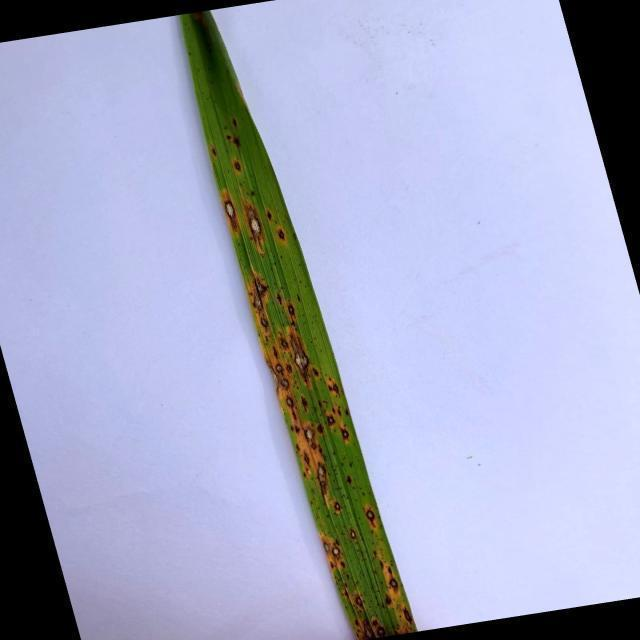Leaf_Blast: (288, 335, 314, 387), (246, 209, 264, 240), (317, 460, 328, 498), (223, 196, 238, 222), (363, 506, 379, 528), (254, 276, 270, 297), (282, 393, 299, 412), (250, 294, 267, 310), (285, 302, 298, 321), (401, 606, 414, 625), (277, 377, 293, 392), (302, 426, 317, 442), (339, 425, 351, 444), (323, 413, 338, 428), (328, 380, 341, 397), (232, 158, 244, 176), (259, 313, 271, 330), (275, 226, 286, 243), (278, 336, 291, 350), (301, 450, 313, 465), (330, 501, 343, 514), (321, 539, 332, 554), (355, 594, 366, 609), (363, 625, 374, 640), (387, 577, 400, 589), (274, 361, 285, 375), (331, 545, 342, 558), (348, 527, 358, 541), (308, 440, 320, 451), (375, 626, 387, 636)
